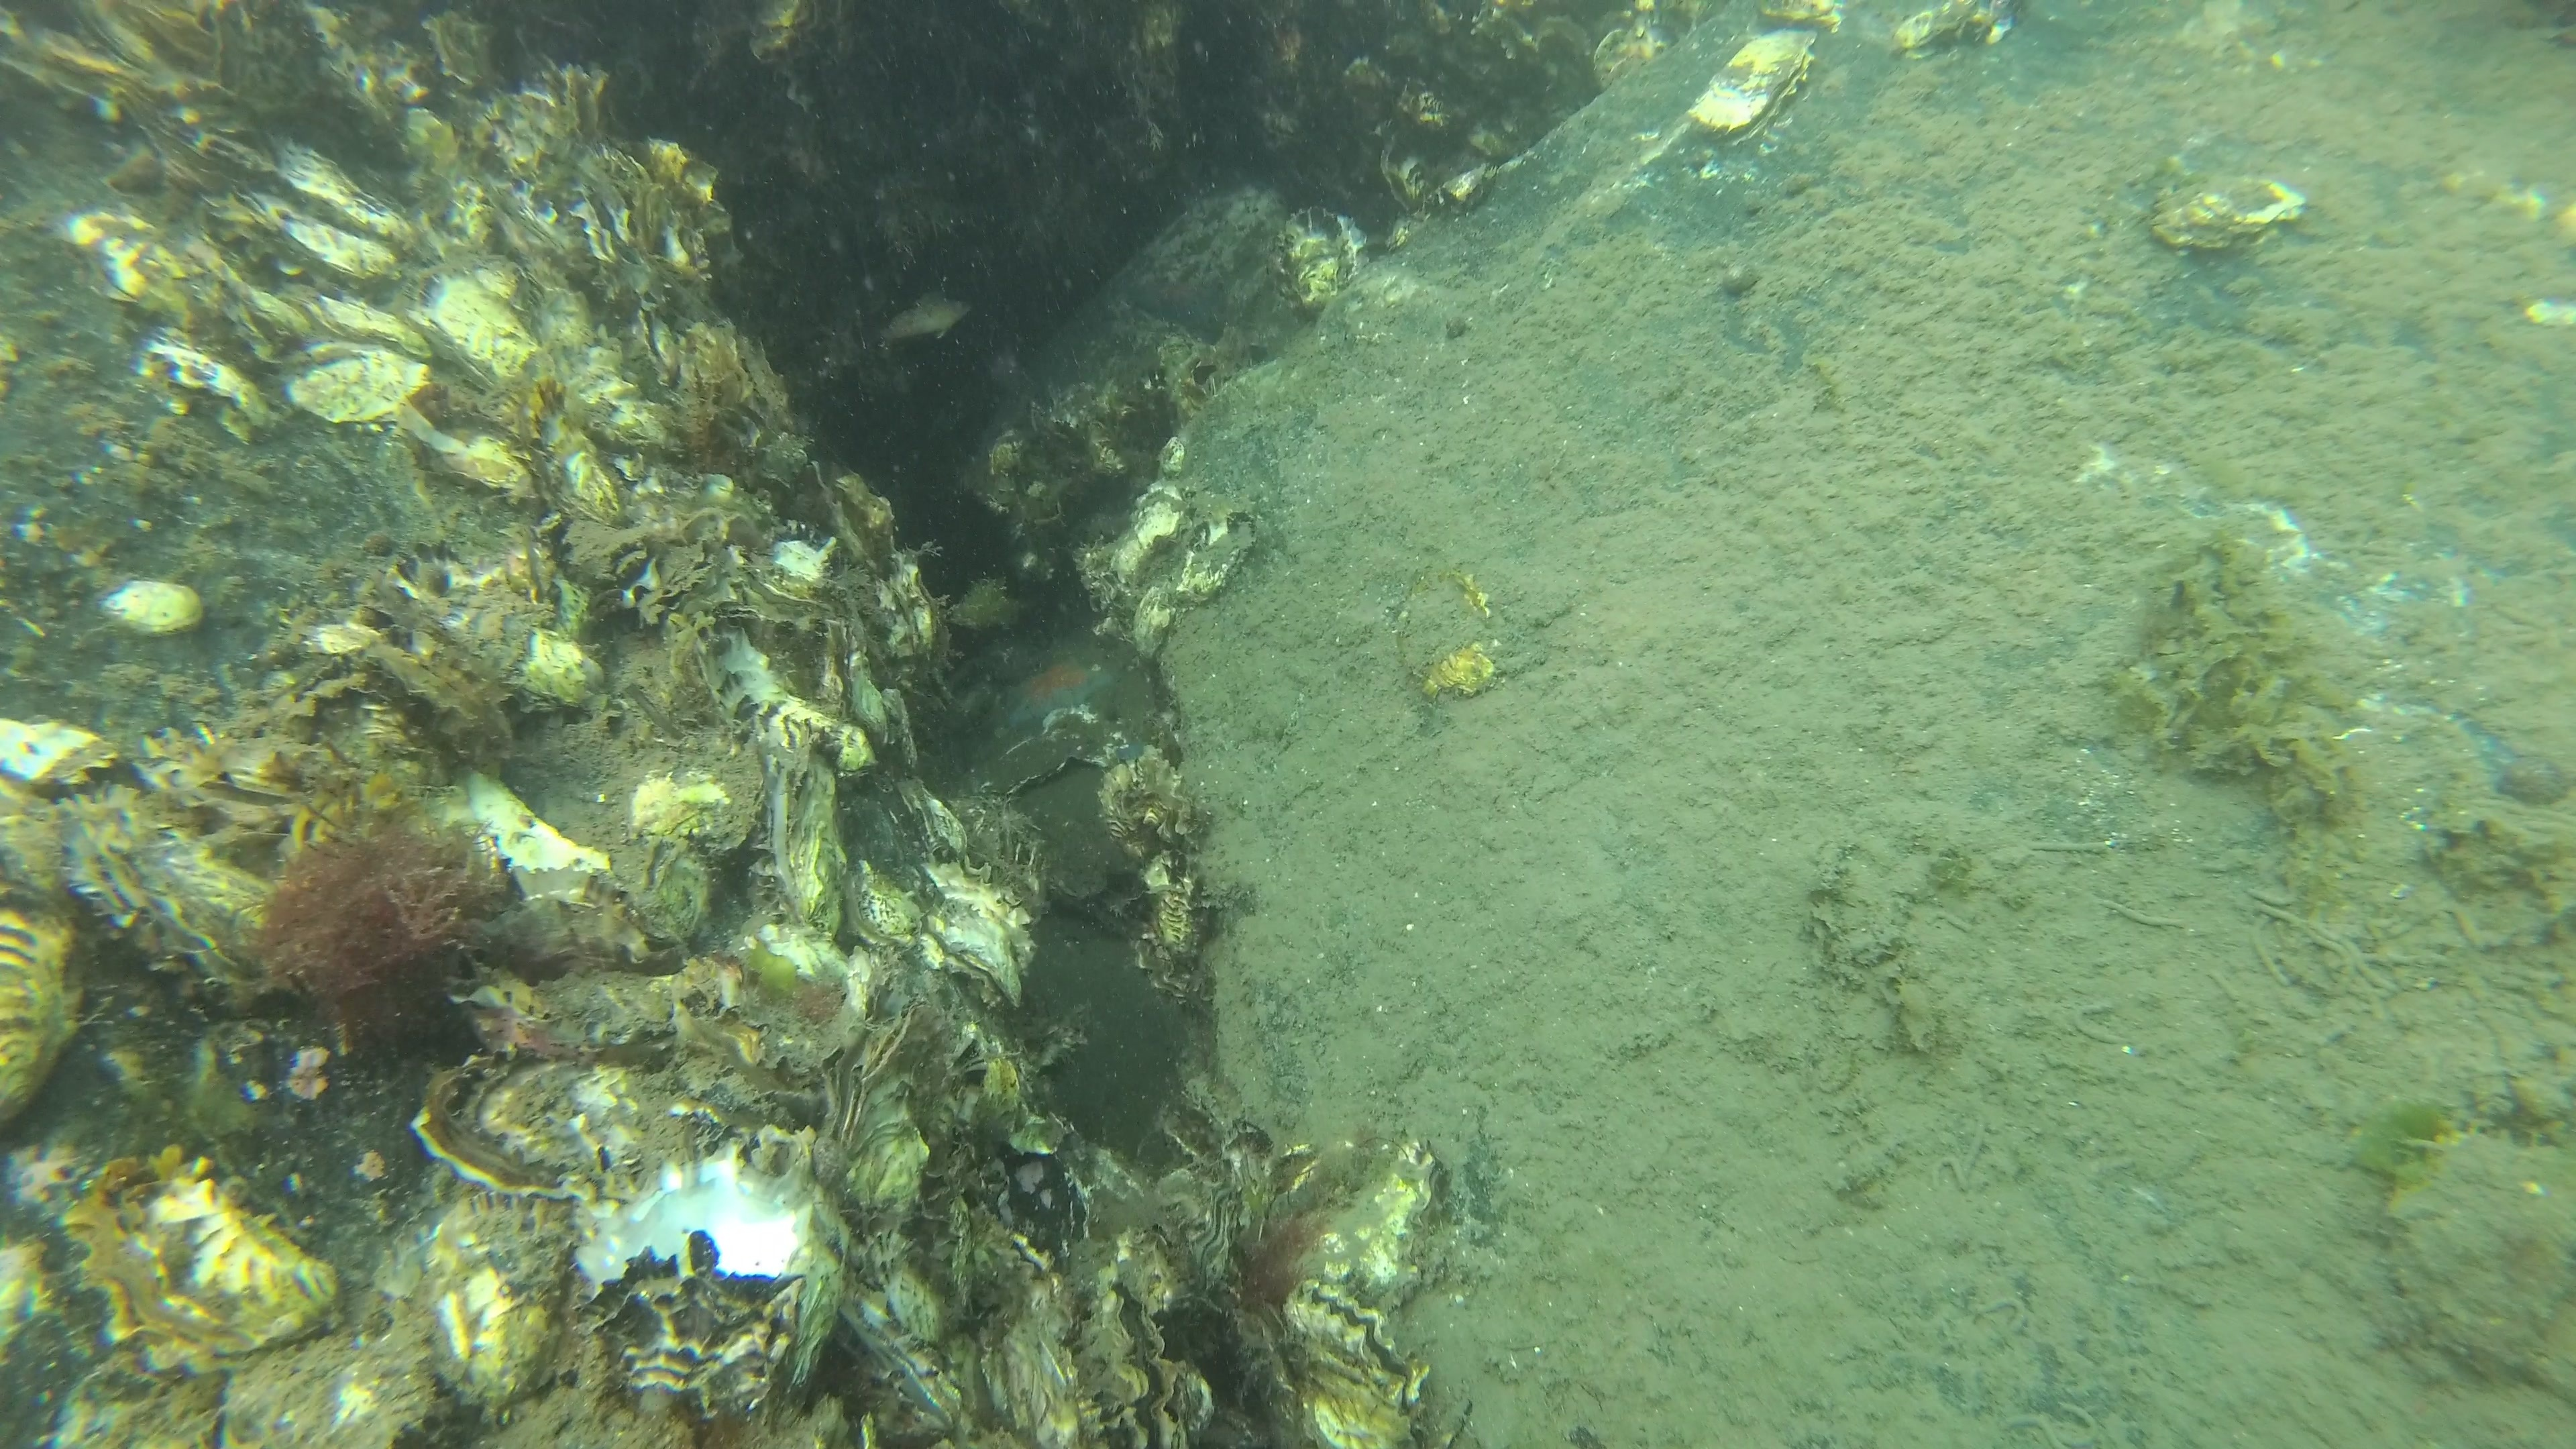starfish: (996, 662, 1115, 738), (1122, 276, 1228, 324)
